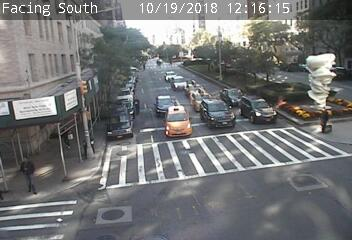car: (239, 95, 278, 123), (200, 97, 235, 126), (164, 104, 192, 135), (190, 88, 211, 111), (219, 87, 245, 105), (155, 94, 173, 114), (170, 75, 187, 91)
